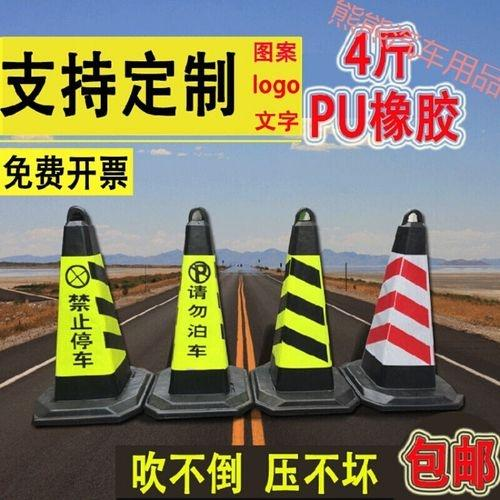cone_barrel: (36, 207, 140, 420), (353, 210, 453, 402), (156, 211, 240, 409), (263, 209, 346, 400)
